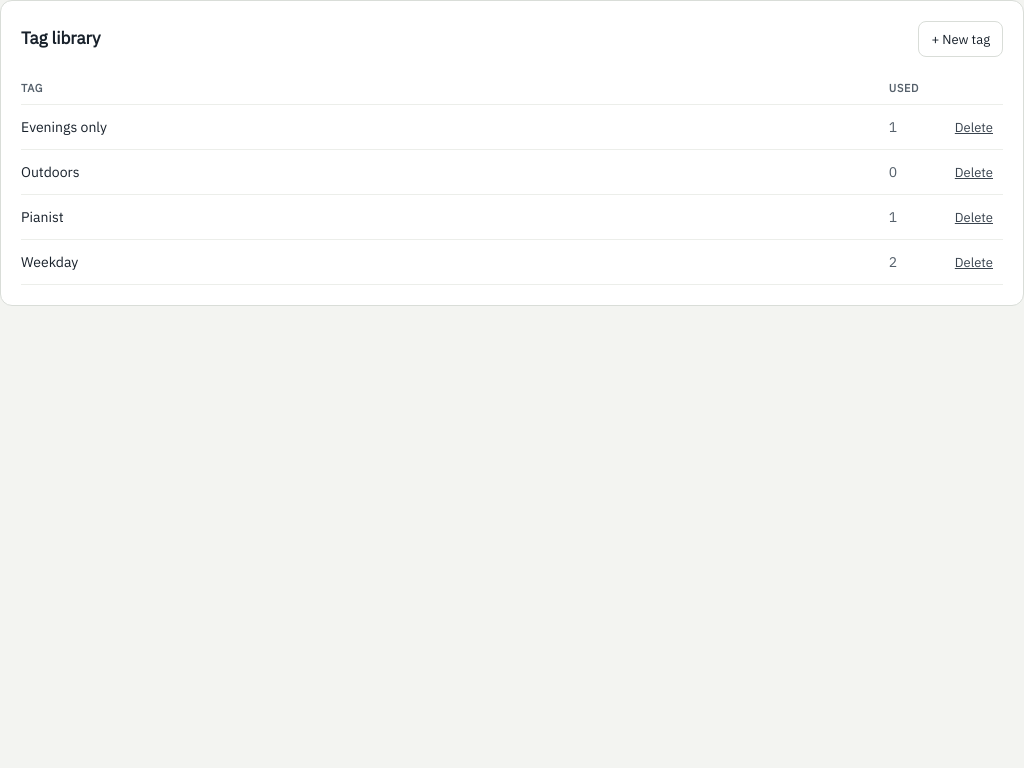
Test: TagLibrary pending usage › null usage: counting text and Delete disabled; Cancel works
The width and height of the screenshot is (1024, 768).
Click the button named "Delete Weekday" at (974, 262), box [945,244,1003,280]
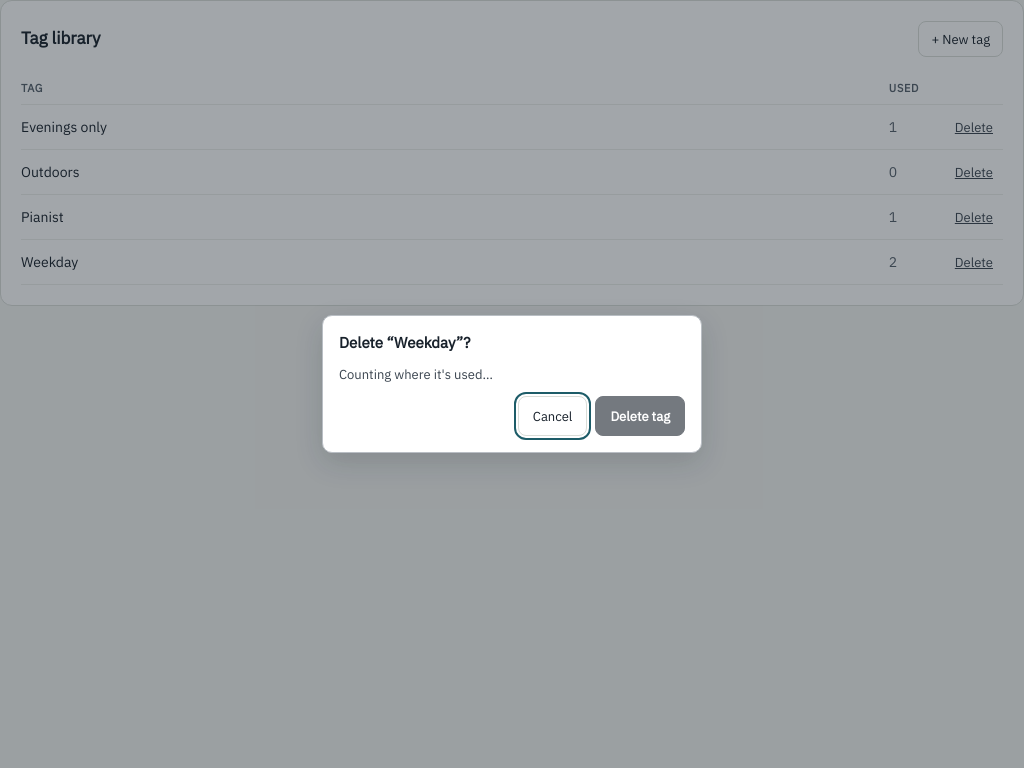
Check: the dialog shows "Counting where it's used…", box [339,366,493,383]
Check: the button "Delete tag" is disabled
Click the button "Delete tag" at (640, 416), box [595,396,685,436]
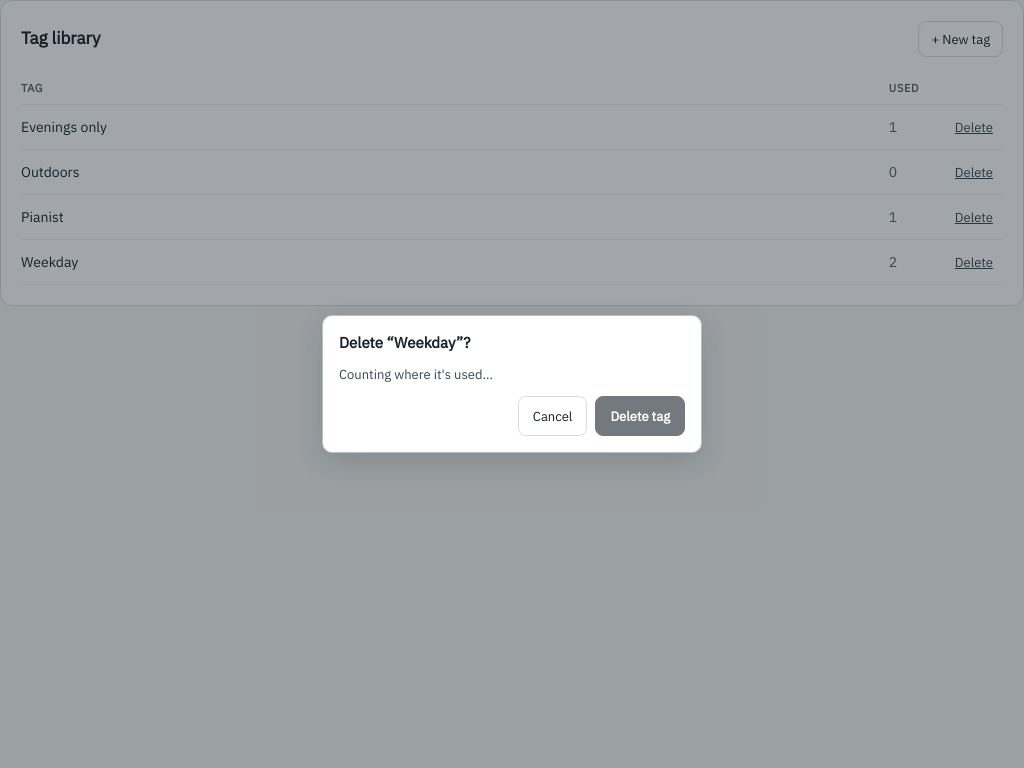
Click the button "Cancel" at (553, 416), box [518,396,587,436]
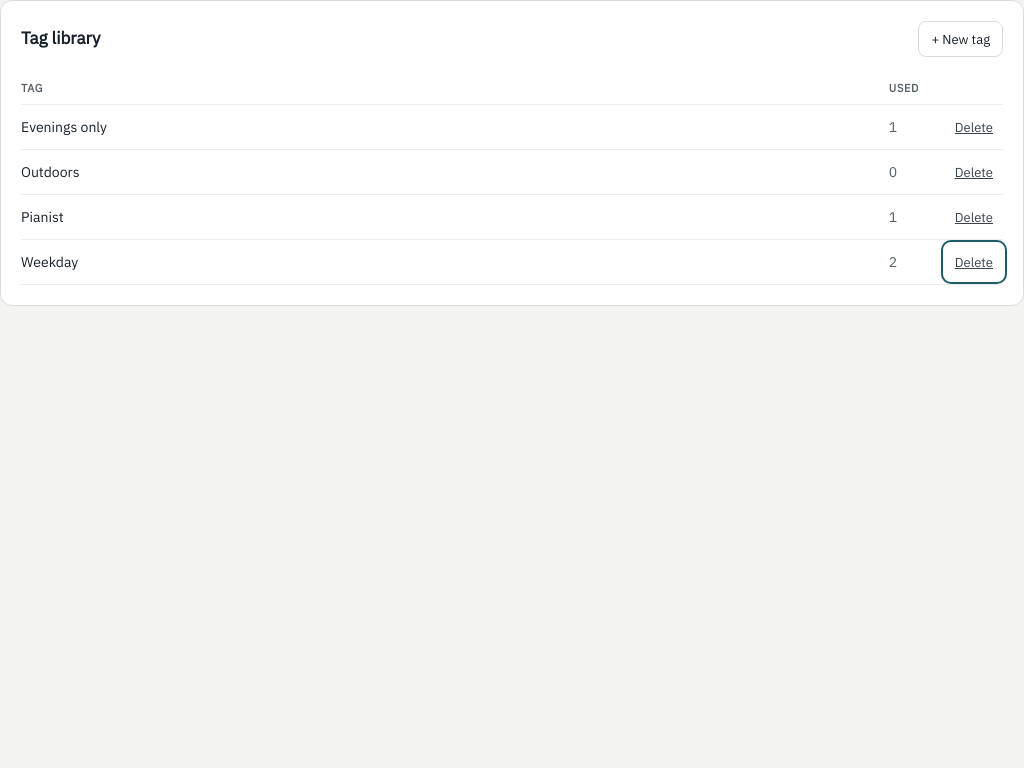
Check: the dialog is gone
Click the button named "Delete Weekday" at (974, 262), box [945,244,1003,280]
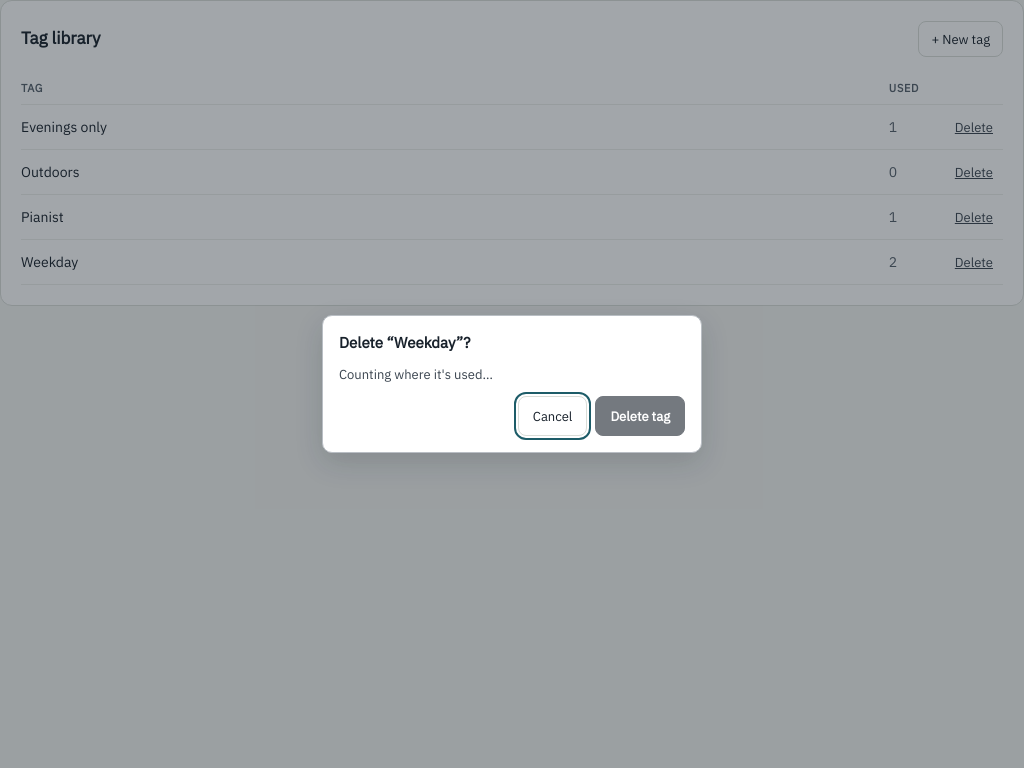
Press Escape
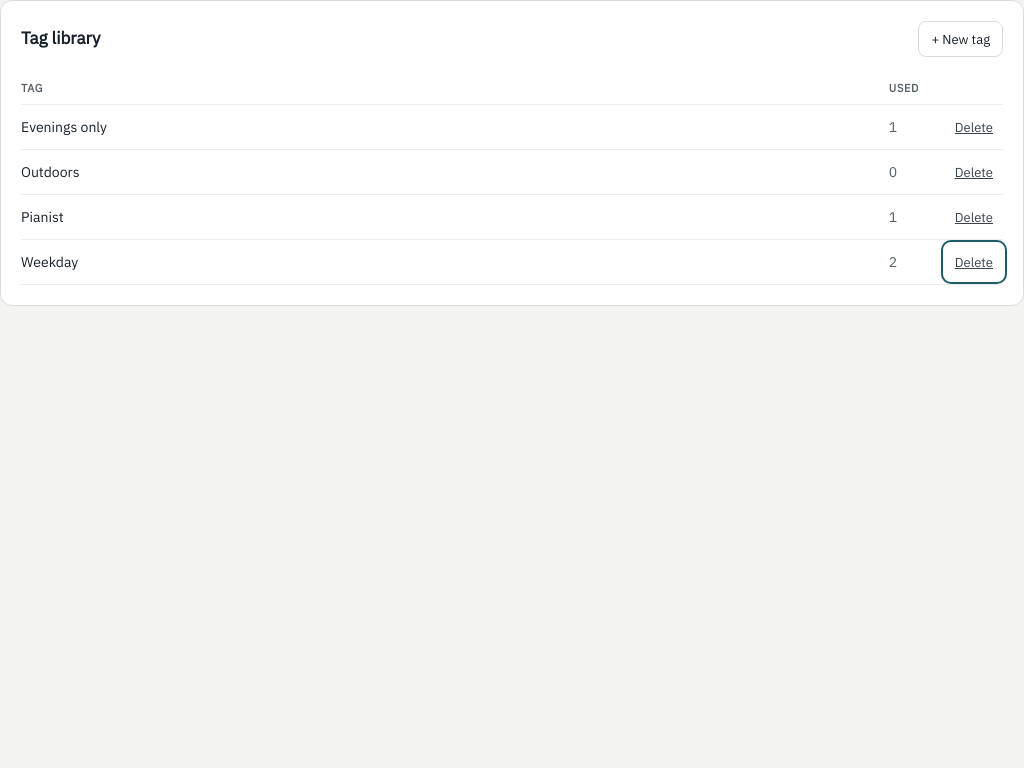
Check: the dialog is gone
